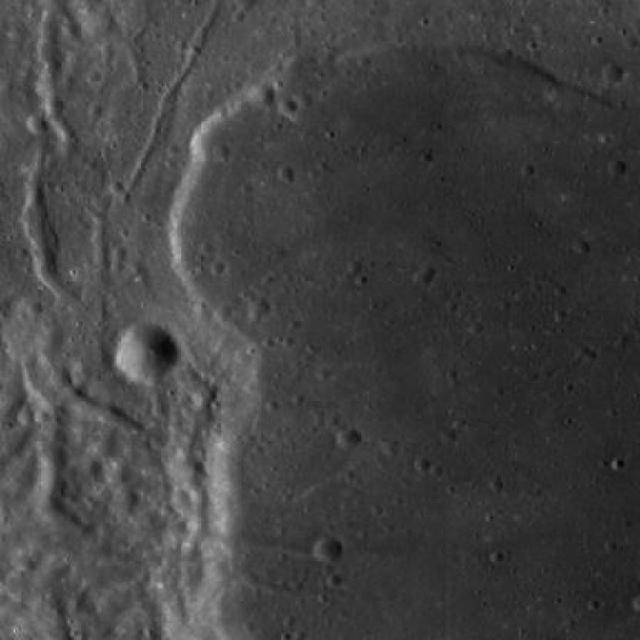crater: (115, 322, 180, 384), (109, 488, 140, 518), (313, 536, 342, 564), (104, 458, 132, 484), (250, 82, 276, 106), (193, 381, 218, 404), (60, 20, 84, 43), (336, 428, 361, 450), (602, 64, 624, 84), (249, 298, 269, 318), (27, 115, 47, 134), (278, 96, 298, 115), (382, 440, 400, 457), (217, 304, 234, 321), (18, 408, 36, 424), (414, 268, 432, 284), (87, 101, 104, 117), (209, 258, 226, 274), (276, 164, 293, 180), (414, 457, 431, 472), (439, 428, 456, 443), (186, 458, 203, 473), (608, 160, 624, 174), (237, 0, 257, 11)
